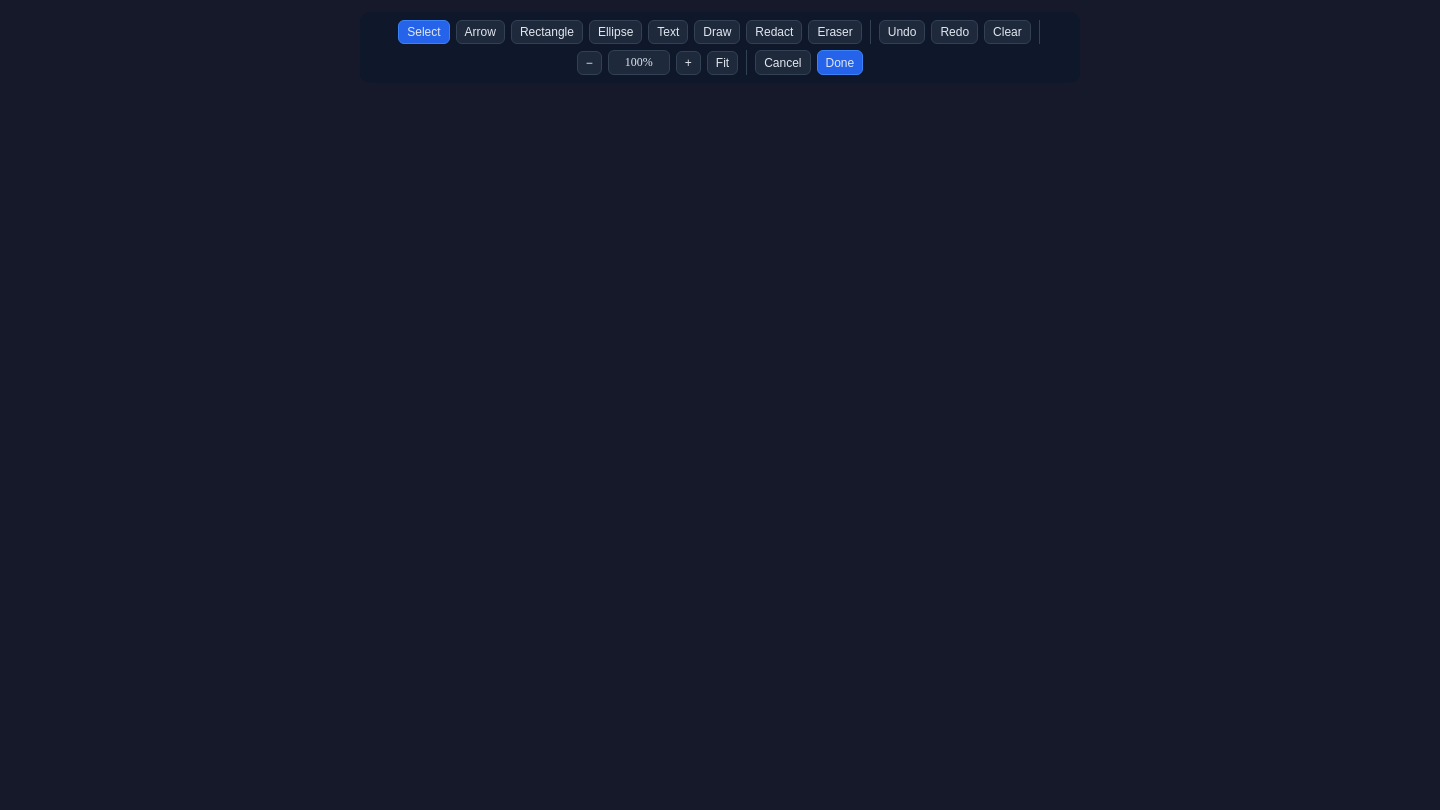
Scenario: KonvaAnnotationCanvas › zooms in and resets, growing the canvas content and updating the level (BUG-03)
Expected: the text "100%" is shown, left=608, top=50, right=670, bottom=75
What coordinates should you click on to do the following:
click the button "+"
I would click on:
 (688, 62)
Its box is left=676, top=50, right=701, bottom=74.
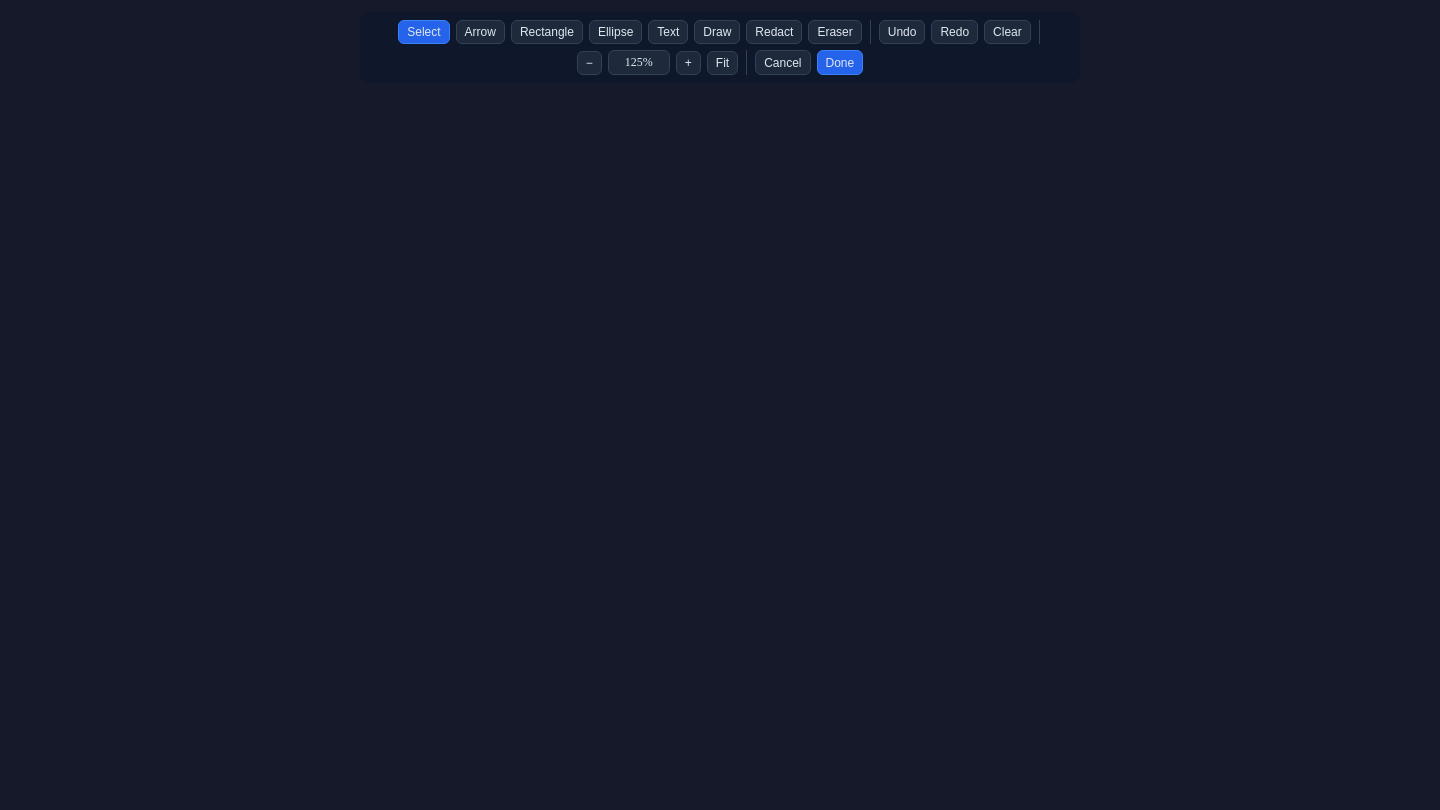
Expected: the text "125%" is shown, left=608, top=50, right=670, bottom=75
What coordinates should you click on to do the following:
click the button "Fit"
I would click on:
 (722, 62)
Its box is left=707, top=50, right=738, bottom=74.
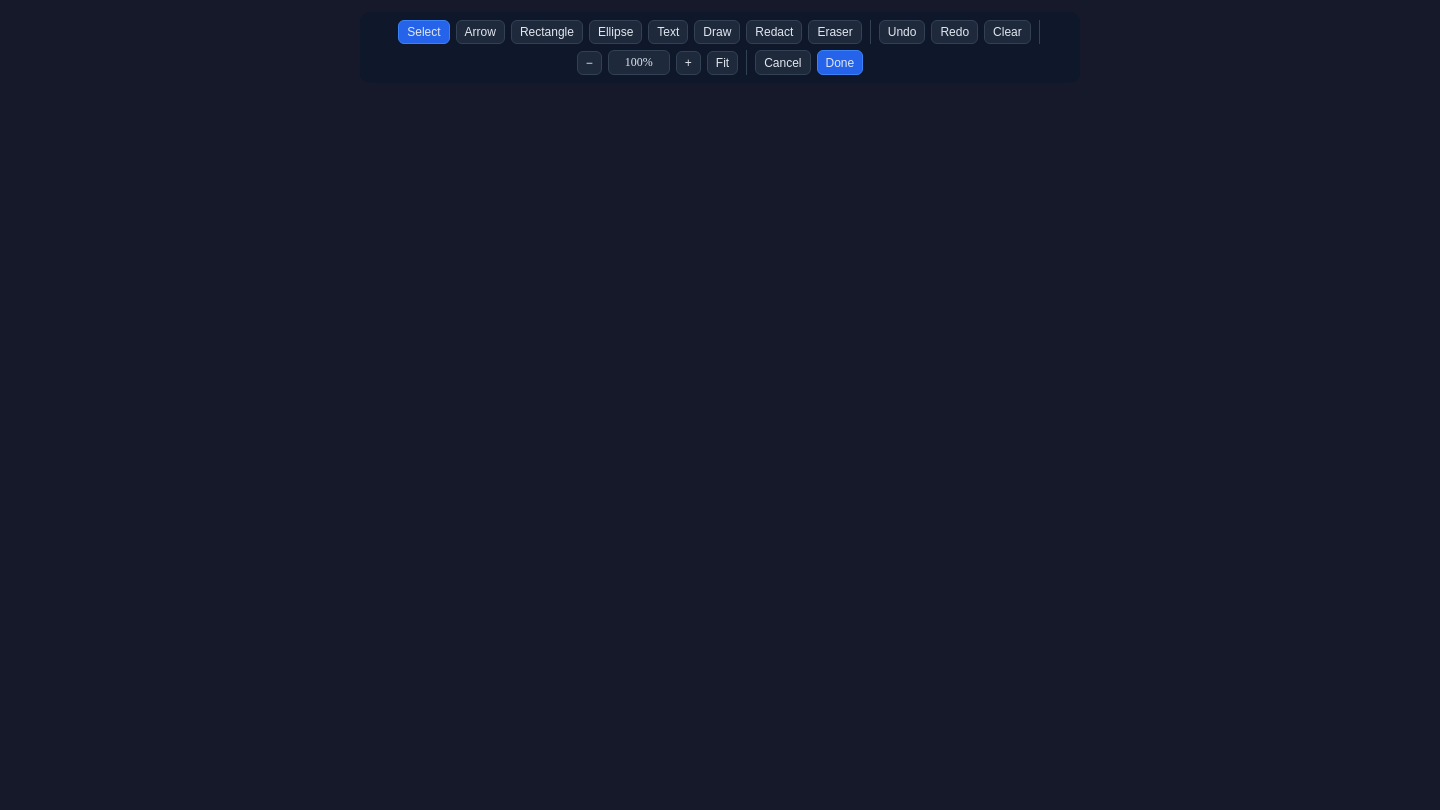
Expected: the text "100%" is shown, left=608, top=50, right=670, bottom=75
